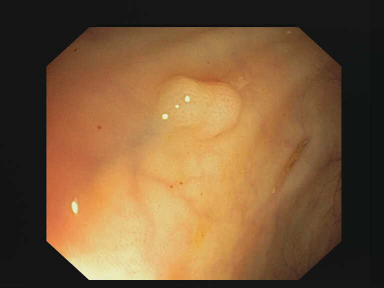polyp: (129, 47, 268, 157)
